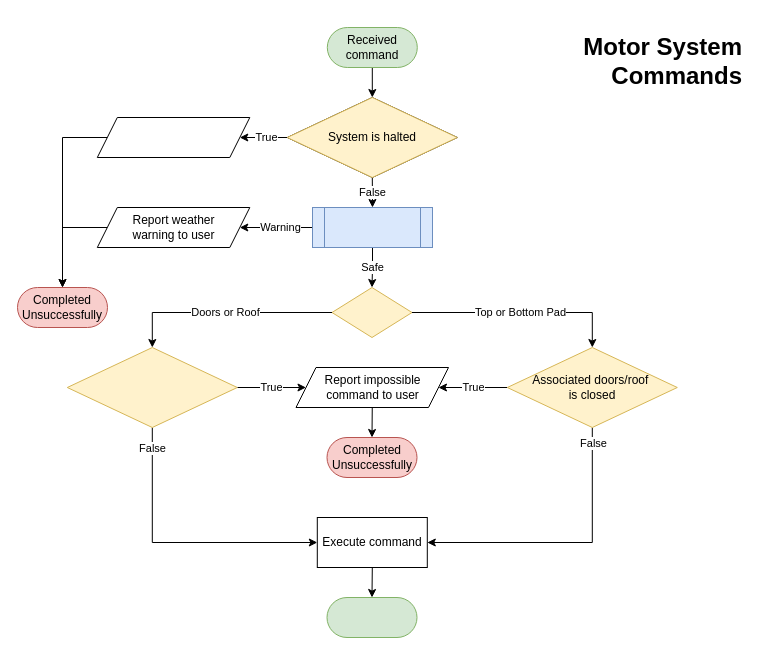
Image size: 765x655. Some labels were removed from this diagram. The shapes that lost their labels are listed below. From the top down, each one's centre as x and y in pixels, then its label:
point 173,137: Report system halt to user
point 372,227: Run Weather Evaluation
point 371,312: command
point 151,387: Associated pad is extended/raised
point 371,617: Completed Successfully
